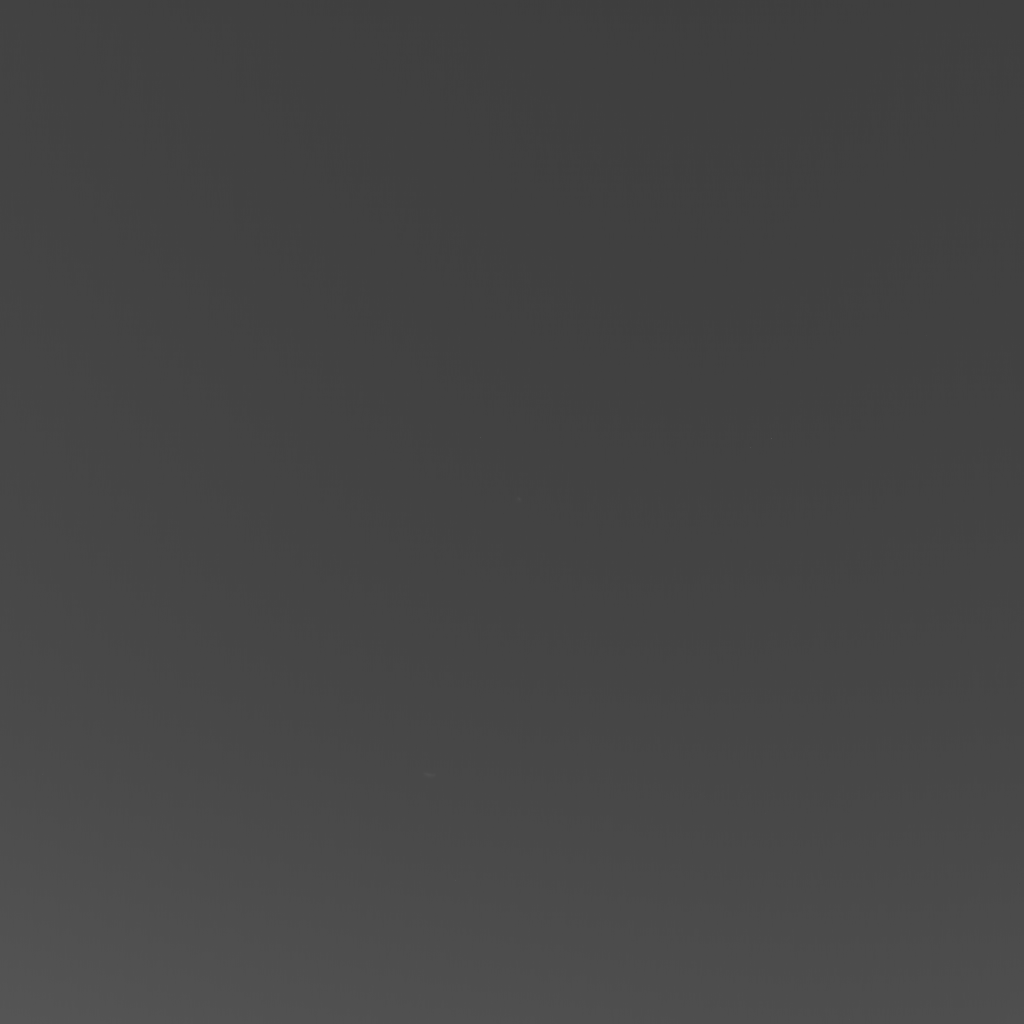Target: (425, 773, 435, 775)
